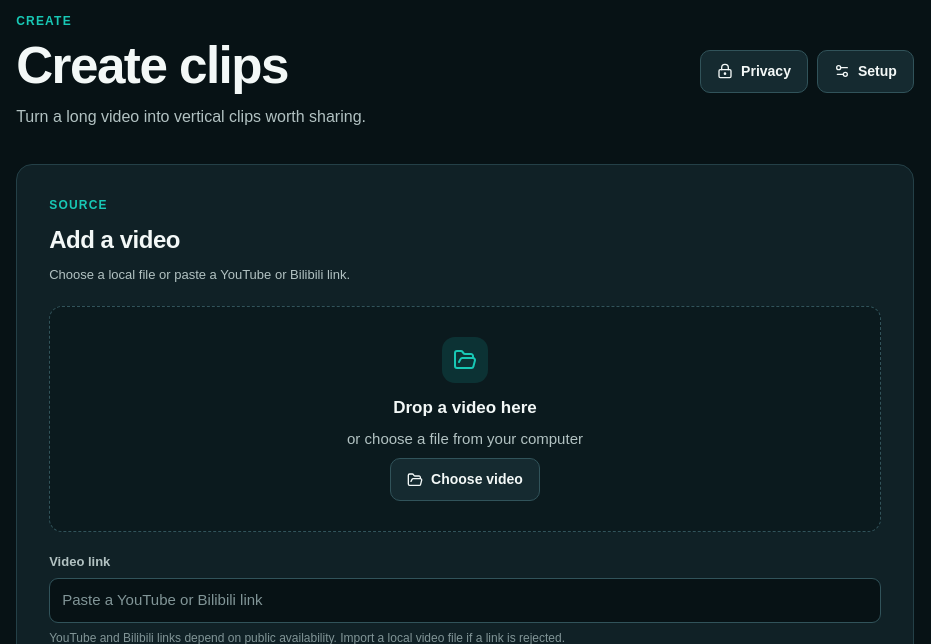
Scenario: Studio output controls › surfaces video-picker failures without an unhandled rejection
Click the button "Choose video" at [465, 480], box [390,458,540,501]
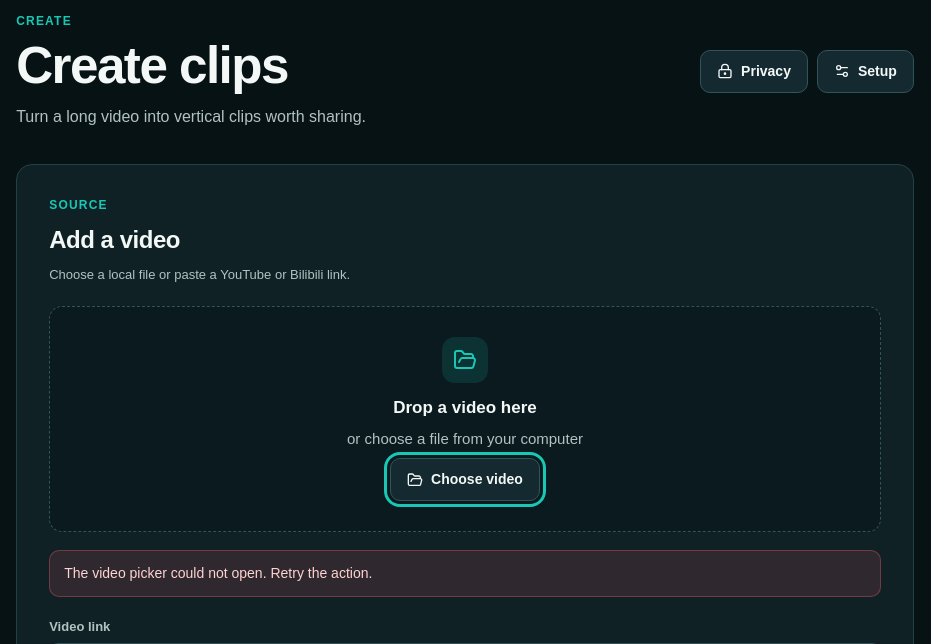
Expected: the text "The video picker could not open. Retry the action." is shown, [49,550,881,597]
